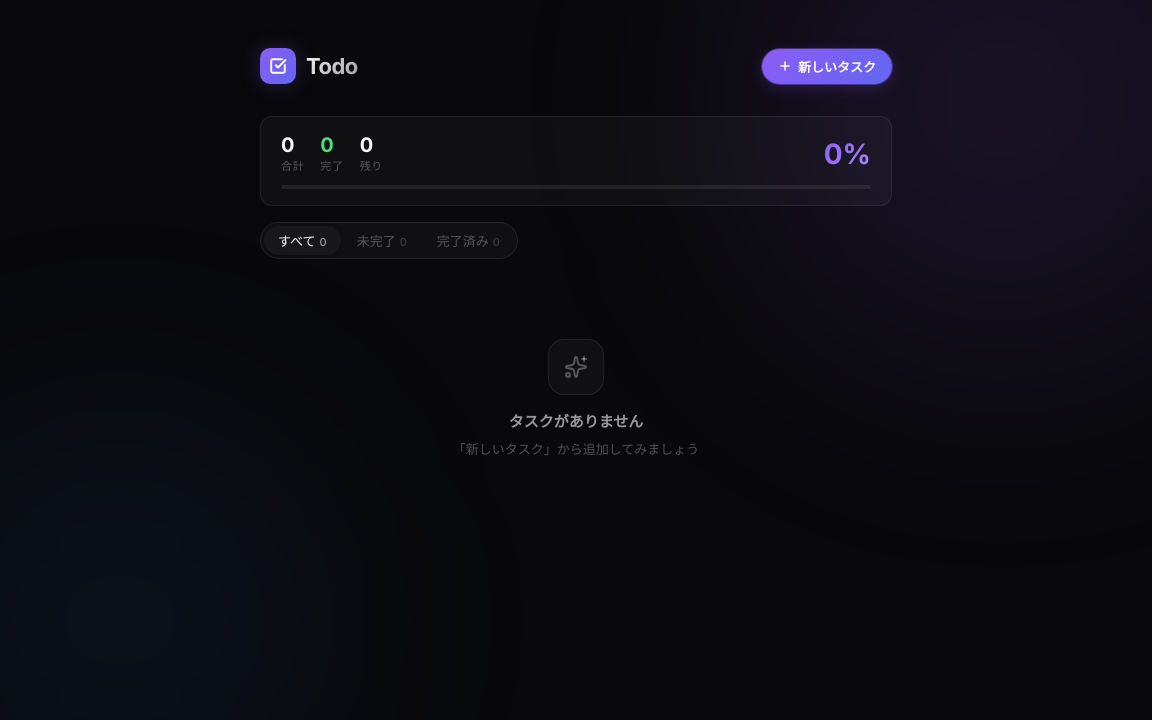
Scenario: App - タスク追加 › フォームからタスクを追加するとリストに表示される
Click the button "新しいタスク" at [827, 66], box left=762, top=48, right=892, bottom=84
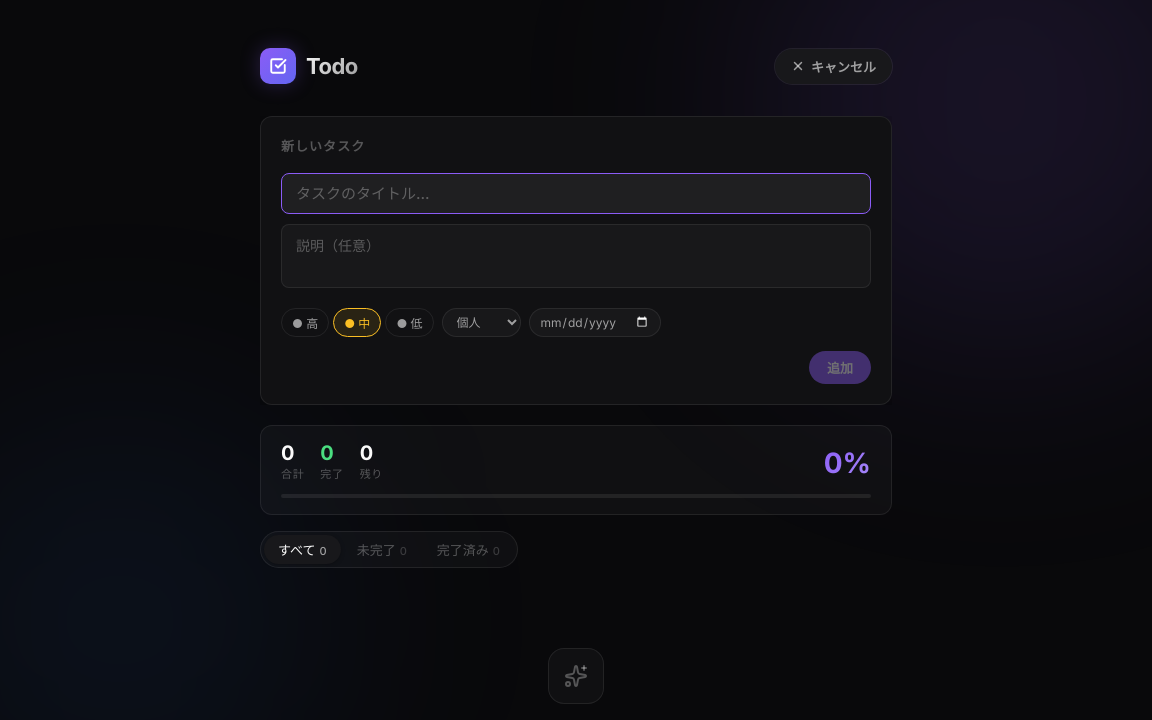
Type "ミルクを買う" into the field with placeholder "タスクのタイトル..." at [576, 193], box left=281, top=172, right=871, bottom=214
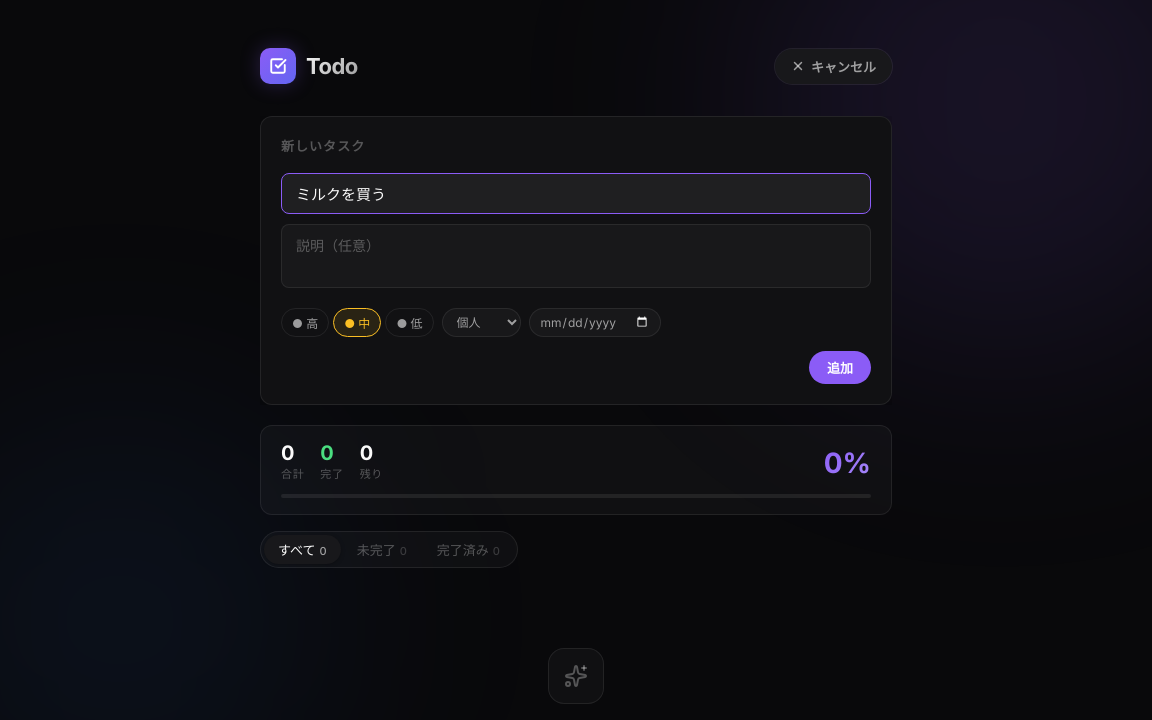
Click the button "追加" at [840, 367], box left=809, top=350, right=871, bottom=384
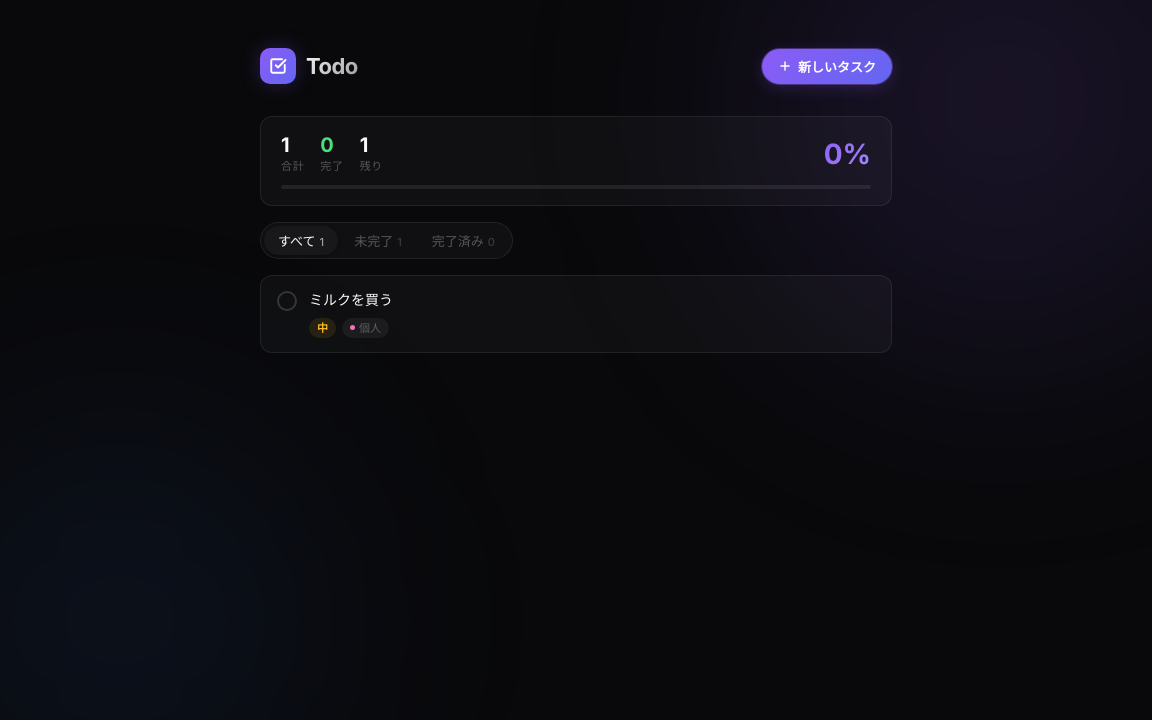
Check: the text "ミルクを買う" is shown, box left=309, top=291, right=393, bottom=308
